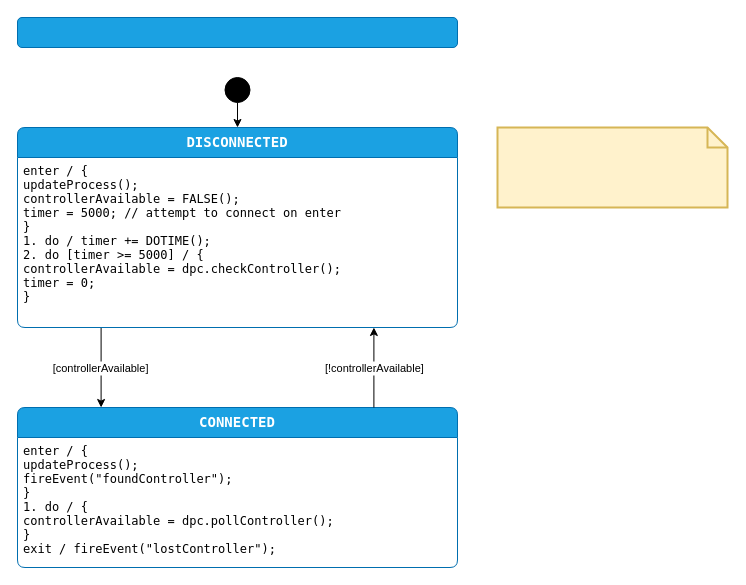
Image size: 746x585. Some labels were removed from this diagram. Each missing label, with the box of its shape:
$STATEMACHINE : {fileName}: (16, 16, 458, 48)
Every X seconds, check if controller is available: (496, 126, 728, 208)
